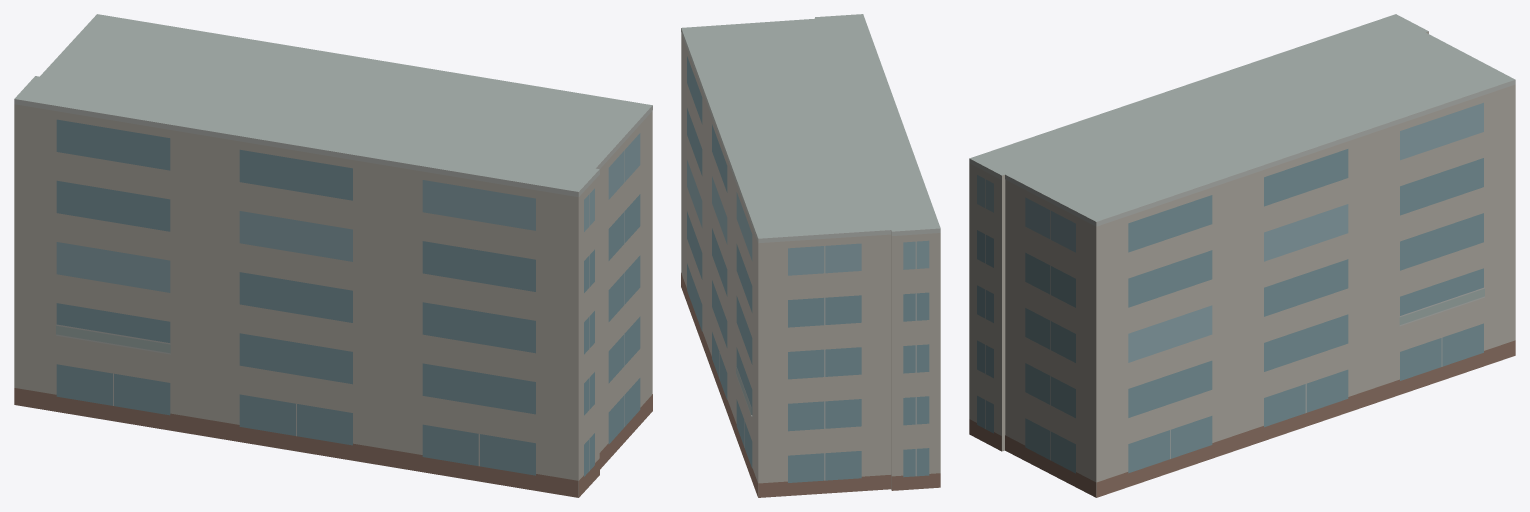
The model's file is survey-upis-32746036.glb.
The picture shows the model from 3 angles, left to right: view 1: azimuth 30°, elevation 25°; view 2: azimuth 150°, elevation 25°; view 3: azimuth 270°, elevation 25°; orthographic projection. The views are drawn at different scales.
Parts seen in each view (by area): view 1: survey-upis-32746036.tmp; view 2: survey-upis-32746036.tmp; view 3: survey-upis-32746036.tmp.
Part boxes in pixels (x1,y1,x2,y2): survey-upis-32746036.tmp: (14,14,652,497); survey-upis-32746036.tmp: (681,14,940,497); survey-upis-32746036.tmp: (969,14,1515,497).
Bounding box in the file's own units: 22.8 × 14.1 × 25.3.
